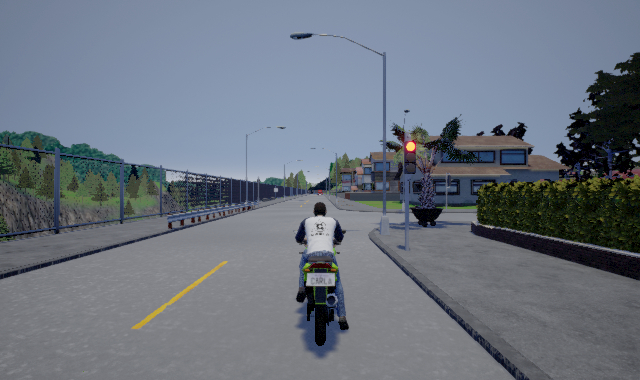motobike: (295, 201, 349, 347)
traffic_light: (404, 140, 416, 173)
